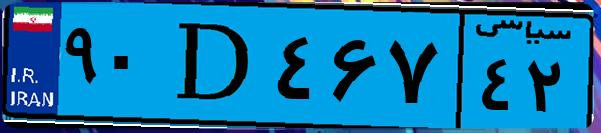0: (110, 28, 158, 98)
2: (525, 38, 570, 115)
4: (270, 28, 330, 110), (475, 38, 525, 113)
6: (330, 28, 385, 110)
7: (385, 28, 445, 110)
9: (57, 26, 110, 100)
D: (158, 12, 270, 120)
